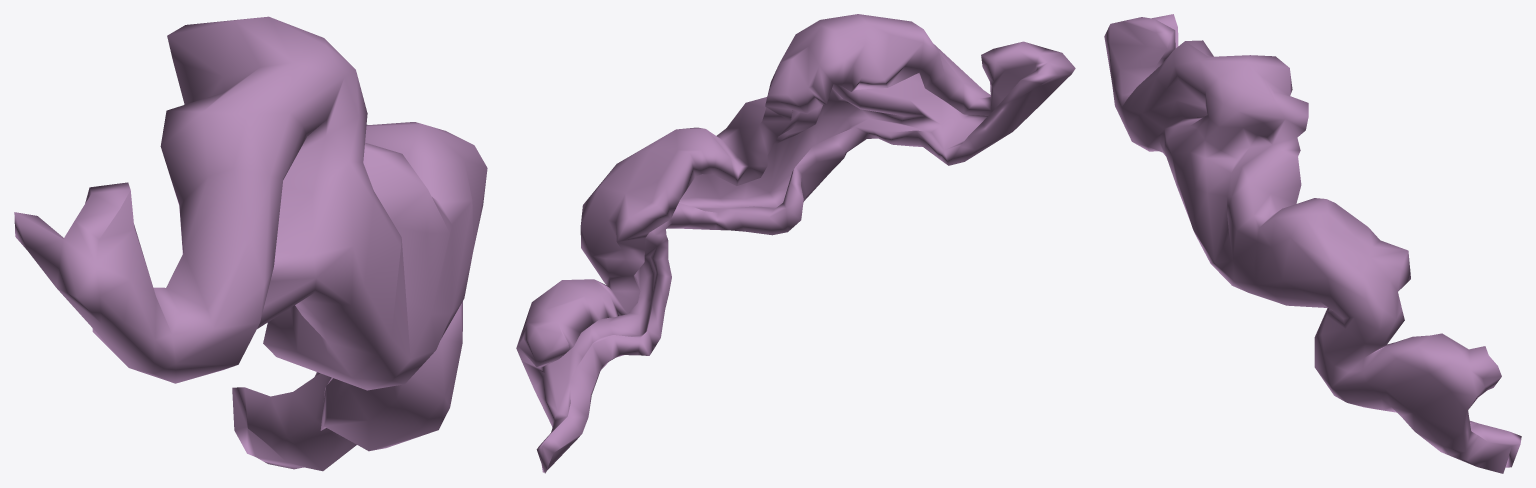
The picture shows the model from 3 angles, left to right: view 1: azimuth 30°, elevation 25°; view 2: azimuth 150°, elevation 25°; view 3: azimuth 270°, elevation 25°; orthographic projection. The views are drawn at different scales.
Visible parts, largest first — view 1: 左侧中央后回; view 2: 左侧中央后回; view 3: 左侧中央后回.
Boxes of the visible parts, left/top/right/bottom form: 左侧中央后回: left=14, top=16, right=487, bottom=471; 左侧中央后回: left=516, top=14, right=1075, bottom=473; 左侧中央后回: left=1104, top=14, right=1521, bottom=473.
Bounding box in the file's own units: 0.0777 × 0.0759 × 0.0822.
